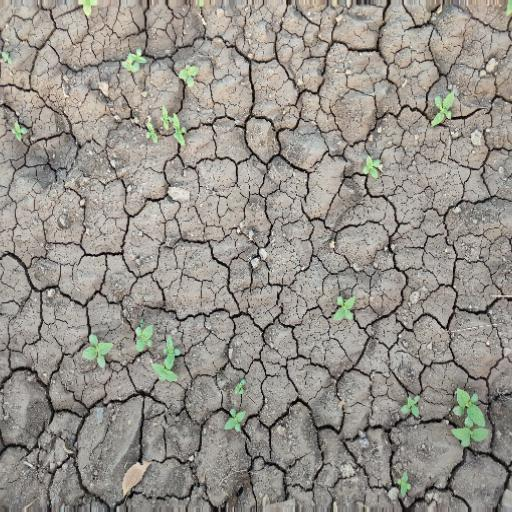crop: (446, 381, 496, 454), (132, 326, 181, 384), (135, 108, 191, 143), (80, 327, 113, 372), (1, 113, 36, 148), (430, 92, 462, 129), (173, 60, 204, 90), (118, 51, 151, 74), (220, 408, 252, 431), (328, 296, 358, 320)
